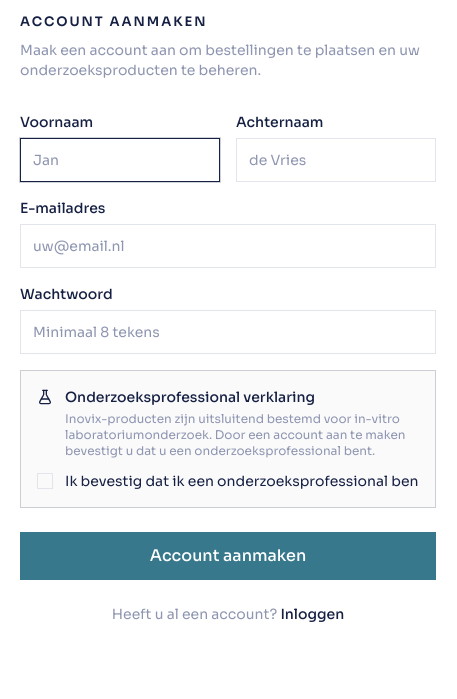
Test case: RegistratiePage › shows error for empty first name
Click the button "Account aanmaken". click: (228, 556)
box: [20, 532, 436, 580]
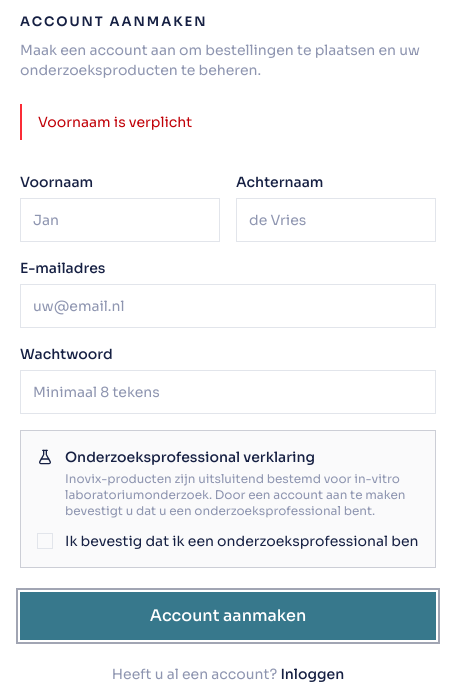
Check: the text "Voornaam is verplicht" is shown, box [20, 104, 436, 140]
